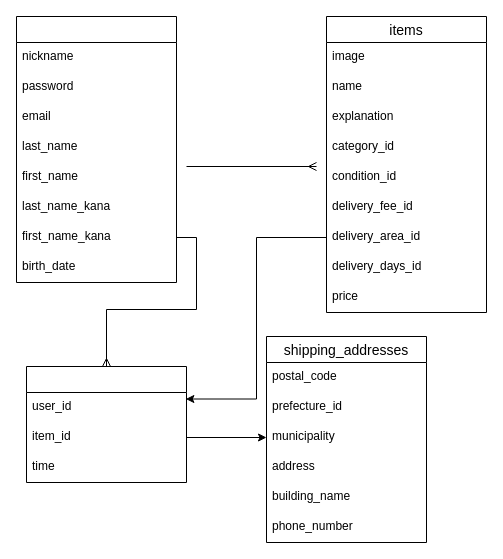
This 503x559 diagram has some shape labels left out. Here are the shapes that lost their labels. From the top down, the box of each, then its label:
(16, 16, 176, 282): users
(26, 366, 186, 482): purchases
